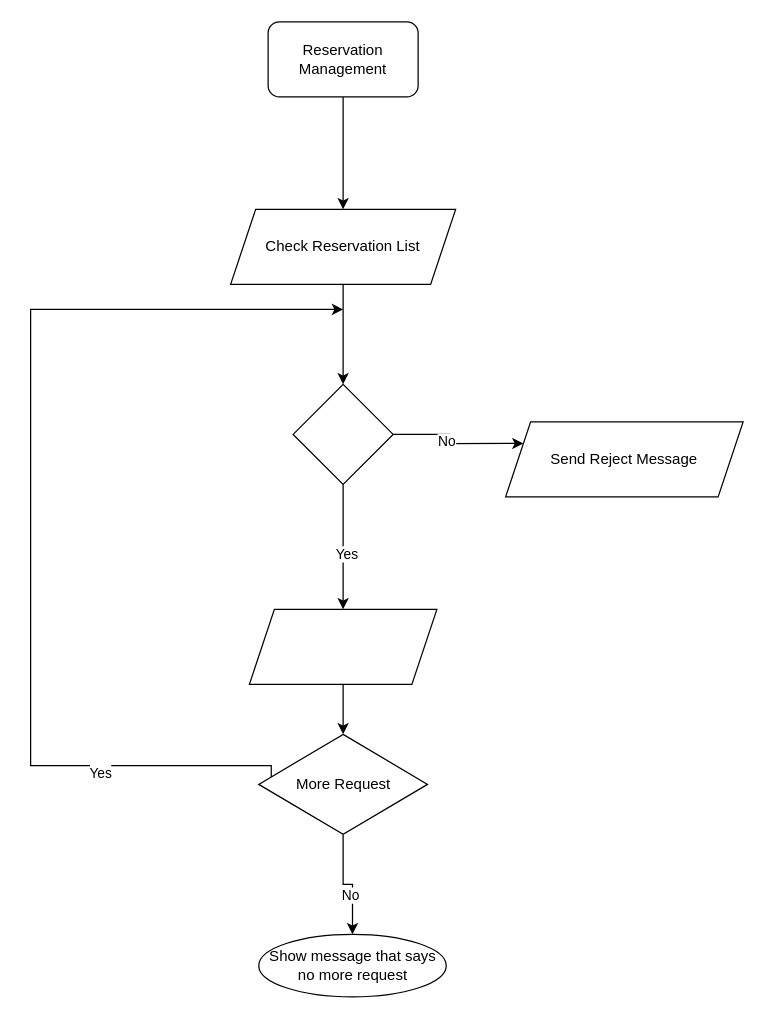
Image size: 765x1019. Some labels were removed from this diagram. Each missing label, with the centre of its shape:
"Accept" goes at [342,433].
"Send Confirmation Message" goes at [342,646].
